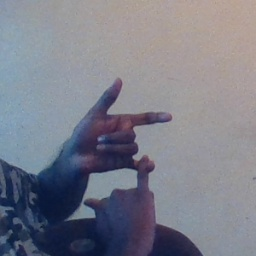S: (68, 73, 175, 218)
